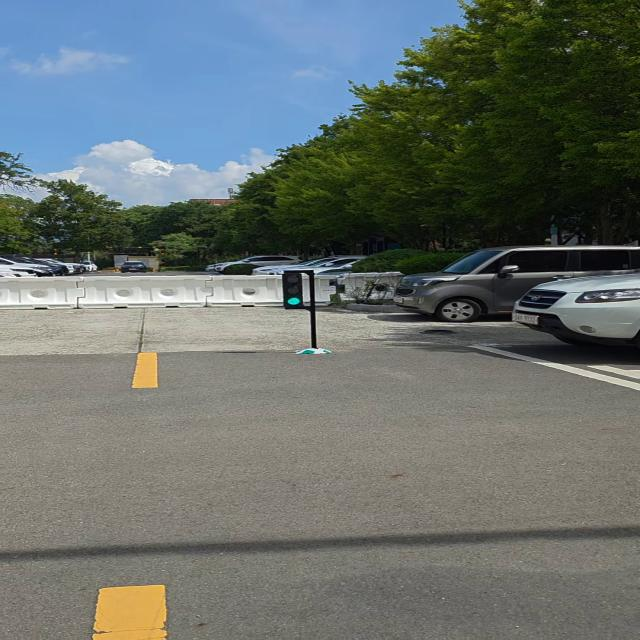green: (278, 268, 310, 310)
